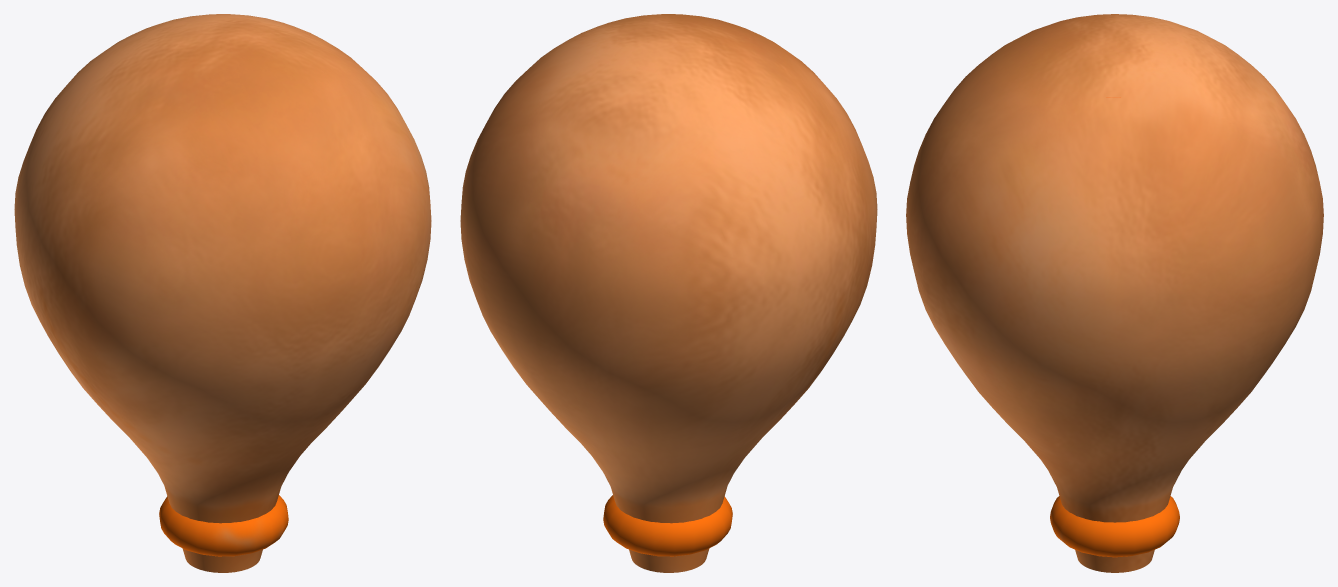
File: globo_agua.obj
3 renders of one model, left to right at view 1: azimuth 30°, elevation 25°; view 2: azimuth 150°, elevation 25°; view 3: azimuth 270°, elevation 25°, orthographic.
Parts seen in each view (by area): view 1: globo_agua:pSphere2; view 2: globo_agua:pSphere2; view 3: globo_agua:pSphere2.
Part boxes in pixels (box(x1,y1,x2,y2)): globo_agua:pSphere2: box(14, 14, 431, 572); globo_agua:pSphere2: box(460, 14, 877, 572); globo_agua:pSphere2: box(906, 14, 1323, 572).
Bounding box in the file's own units: 0.363 × 0.5021 × 0.363.
Materials: 1 (1 with a texture image).
